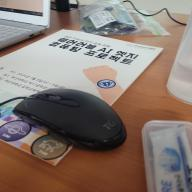mouse: (12, 87, 128, 153)
